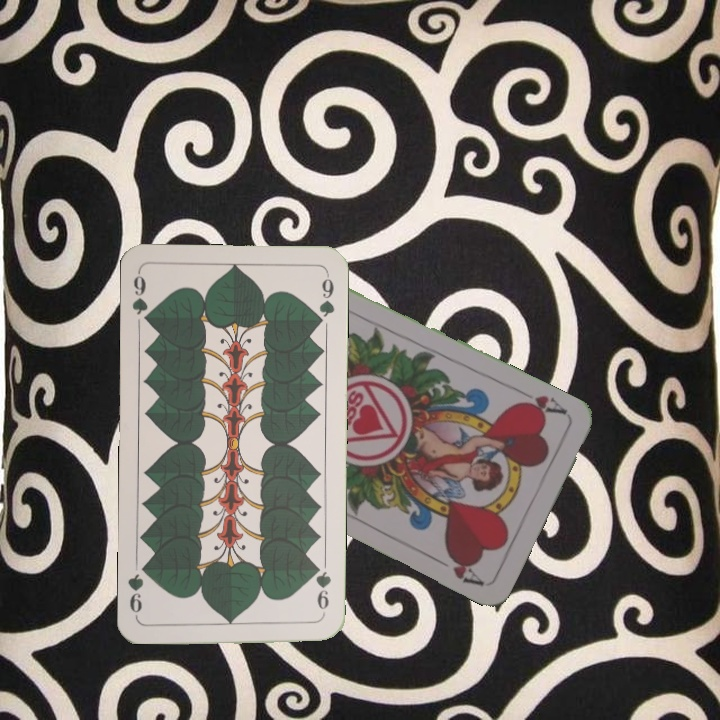G9: (128, 269, 154, 328), (310, 560, 333, 619)
HA: (512, 391, 571, 420)
